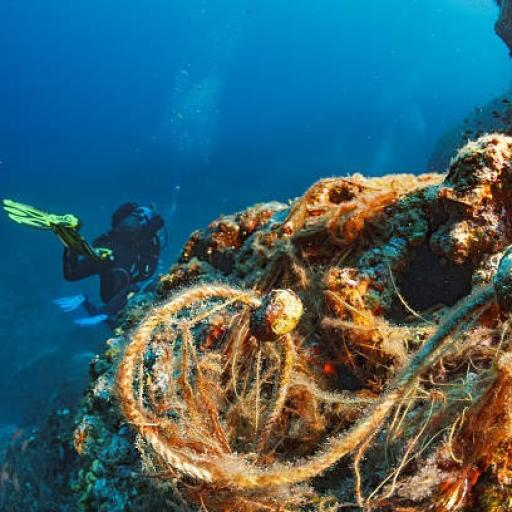net: (93, 281, 512, 502)
